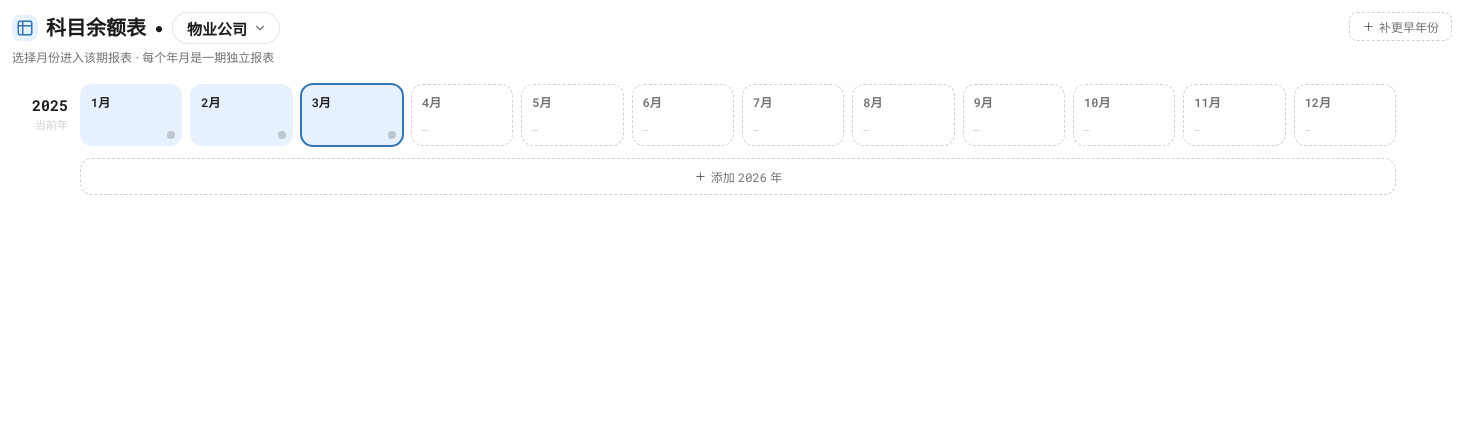
Test case: 科目余额表 · S 档行→卡片 › ❗宽档零差异:tier 不是 s 时照旧渲 <table>,一张卡都不出
Click the button with class "bmm-card" showing "1月": (131, 115) [80,84,182,146]
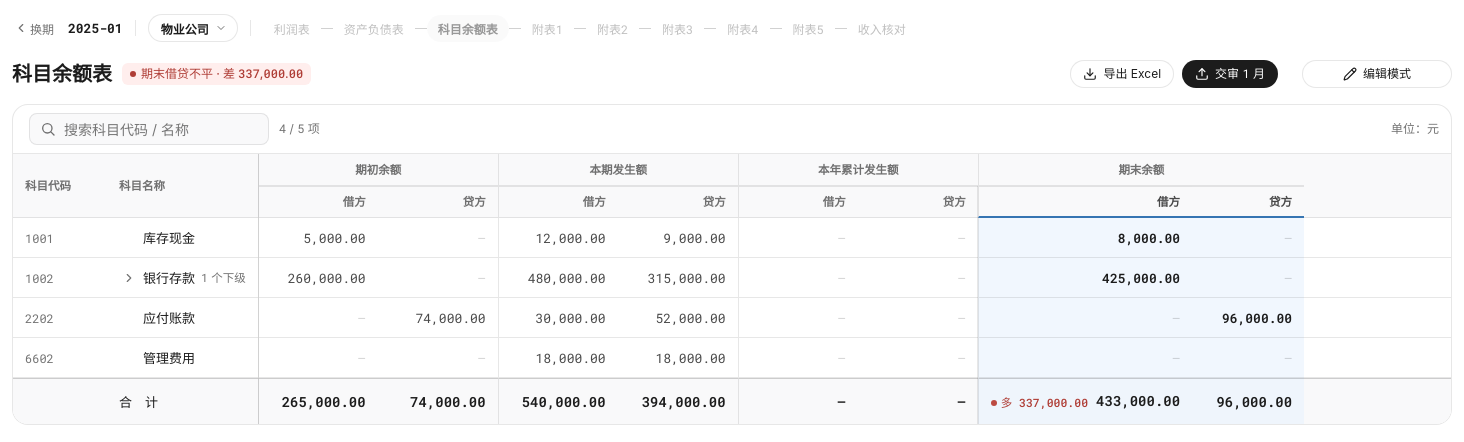
Expected: the table with class "tb-table" is shown
